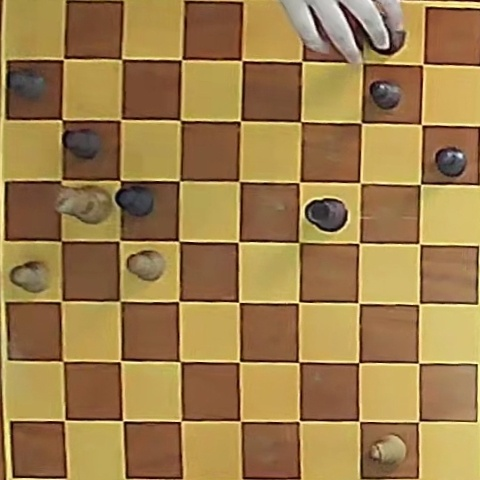black-pawn: (8, 68, 46, 100), (116, 186, 154, 217), (63, 128, 100, 159), (435, 147, 467, 177), (370, 81, 402, 110)
black-rook: (306, 198, 347, 232)
white-bishop: (371, 435, 406, 466)
white-king: (57, 186, 112, 224)
white-pawn: (10, 260, 49, 293), (127, 250, 165, 281)
